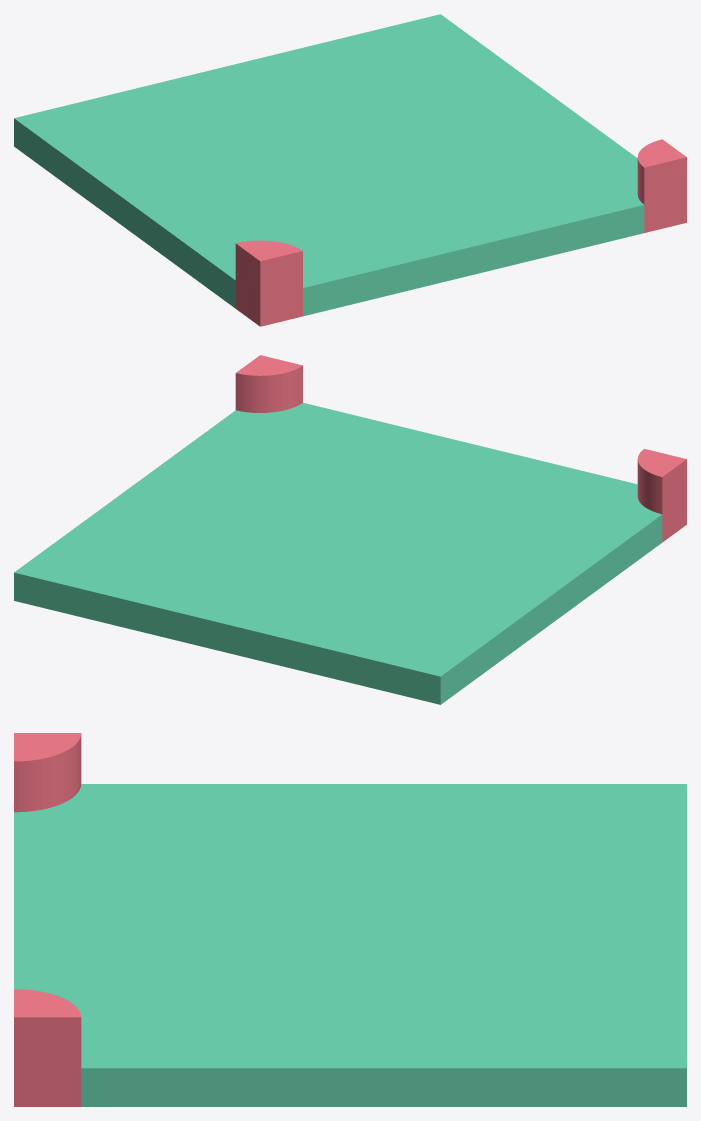
The model's file is wallsToOpen.glb.
3 renders of one model, top to bottom at view 1: azimuth 30°, elevation 25°; view 2: azimuth 150°, elevation 25°; view 3: azimuth 270°, elevation 25°, orthographic. The views are drawn at different scales.
Parts seen in each view (by area): view 1: wallsToOpen; view 2: wallsToOpen; view 3: wallsToOpen.
Part boxes in pixels (<box>): wallsToOpen: <box>14,14,686,326</box>; wallsToOpen: <box>14,355,686,704</box>; wallsToOpen: <box>14,733,686,1106</box>.
Bounding box in the file's own units: 0.9999 × 0.1467 × 0.9999.
